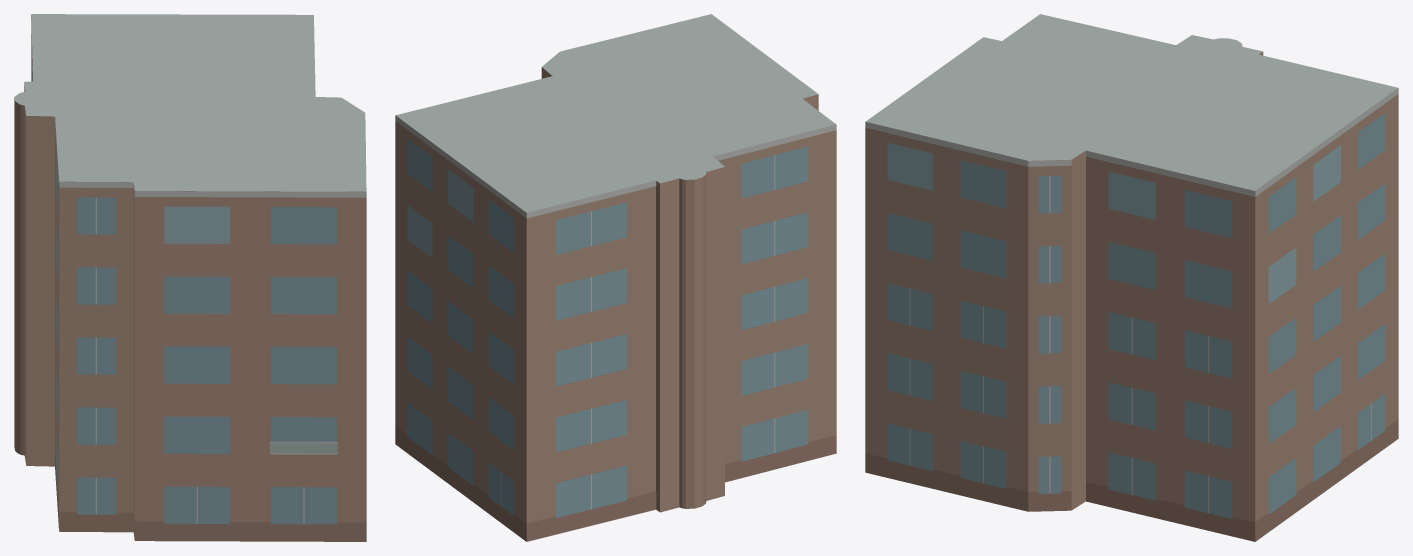
The model's file is survey-upis-32630061.glb.
3 renders of one model, left to right at view 1: azimuth 30°, elevation 25°; view 2: azimuth 150°, elevation 25°; view 3: azimuth 270°, elevation 25°, orthographic. The views are drawn at different scales.
Visible parts, largest first — view 1: survey-upis-32630061.tmp; view 2: survey-upis-32630061.tmp; view 3: survey-upis-32630061.tmp.
Boxes of the visible parts, box(x1,y1,x2,y2) form: survey-upis-32630061.tmp: box(14, 14, 366, 541); survey-upis-32630061.tmp: box(395, 14, 836, 541); survey-upis-32630061.tmp: box(865, 14, 1398, 541).
Size of the model in its own units: 15.48 by 14.3 by 19.7.
